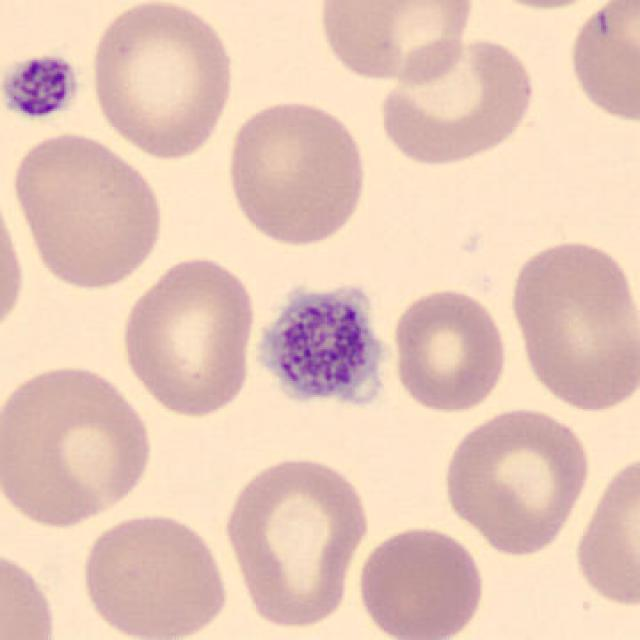Platelets: (249, 279, 393, 416), (0, 49, 85, 123)
RBC: (219, 452, 373, 632), (0, 358, 158, 531), (7, 128, 169, 292), (85, 0, 240, 162), (505, 233, 638, 414), (439, 402, 594, 557), (115, 252, 258, 420), (222, 95, 372, 249), (374, 34, 540, 168), (77, 508, 231, 640), (352, 522, 489, 640), (388, 284, 510, 416), (316, 0, 476, 88), (570, 448, 640, 612), (563, 1, 640, 125), (0, 541, 60, 639), (0, 180, 30, 347), (470, 0, 620, 14)
